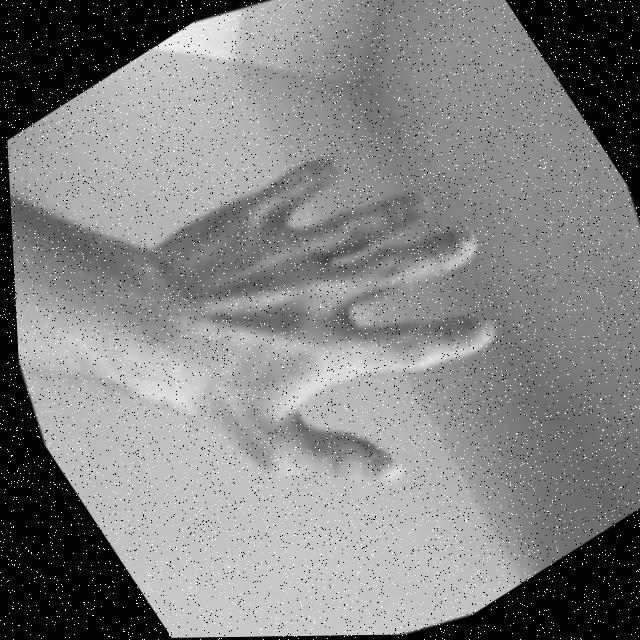no-gloves: (100, 97, 571, 552)
